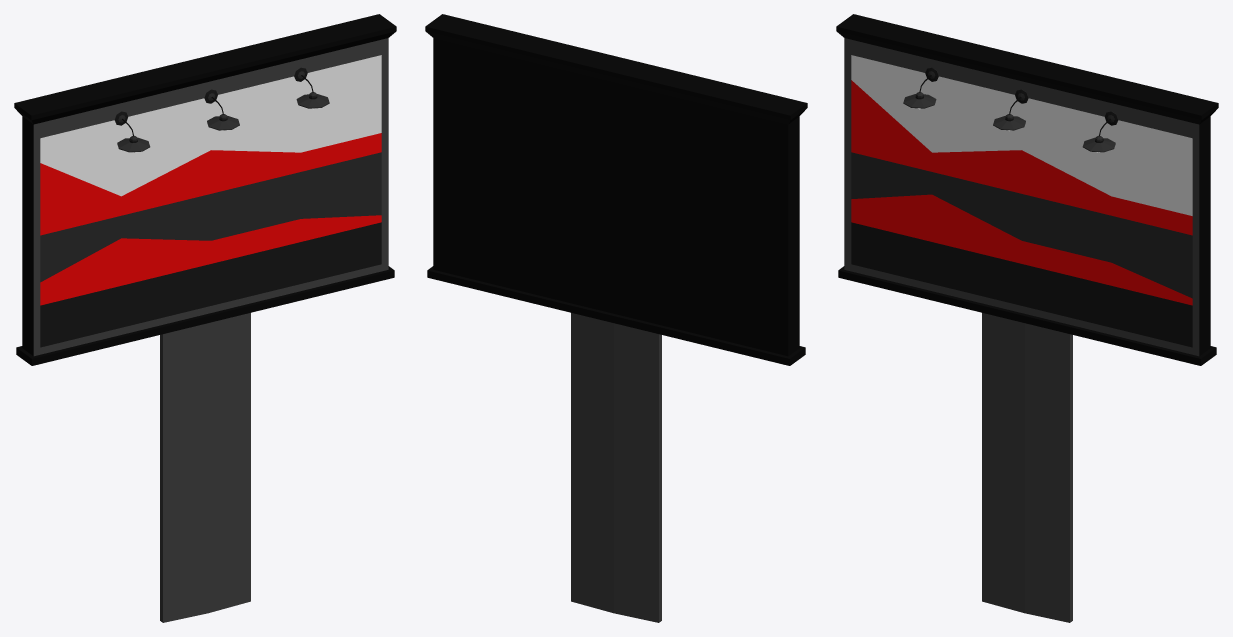
Rendered from BillBoard.fbx.
The picture shows the model from 3 angles, left to right: view 1: azimuth 30°, elevation 25°; view 2: azimuth 150°, elevation 25°; view 3: azimuth 330°, elevation 25°; orthographic projection.
Parts seen in each view (by area): view 1: Box060; view 2: Box060; view 3: Box060.
Part boxes in pixels (x1=…): Box060: x1=14, y1=14, x2=396, y2=622; Box060: x1=425, y1=14, x2=807, y2=622; Box060: x1=836, y1=14, x2=1218, y2=622.
Size of the model in its own units: 533 by 763 by 88.7.
